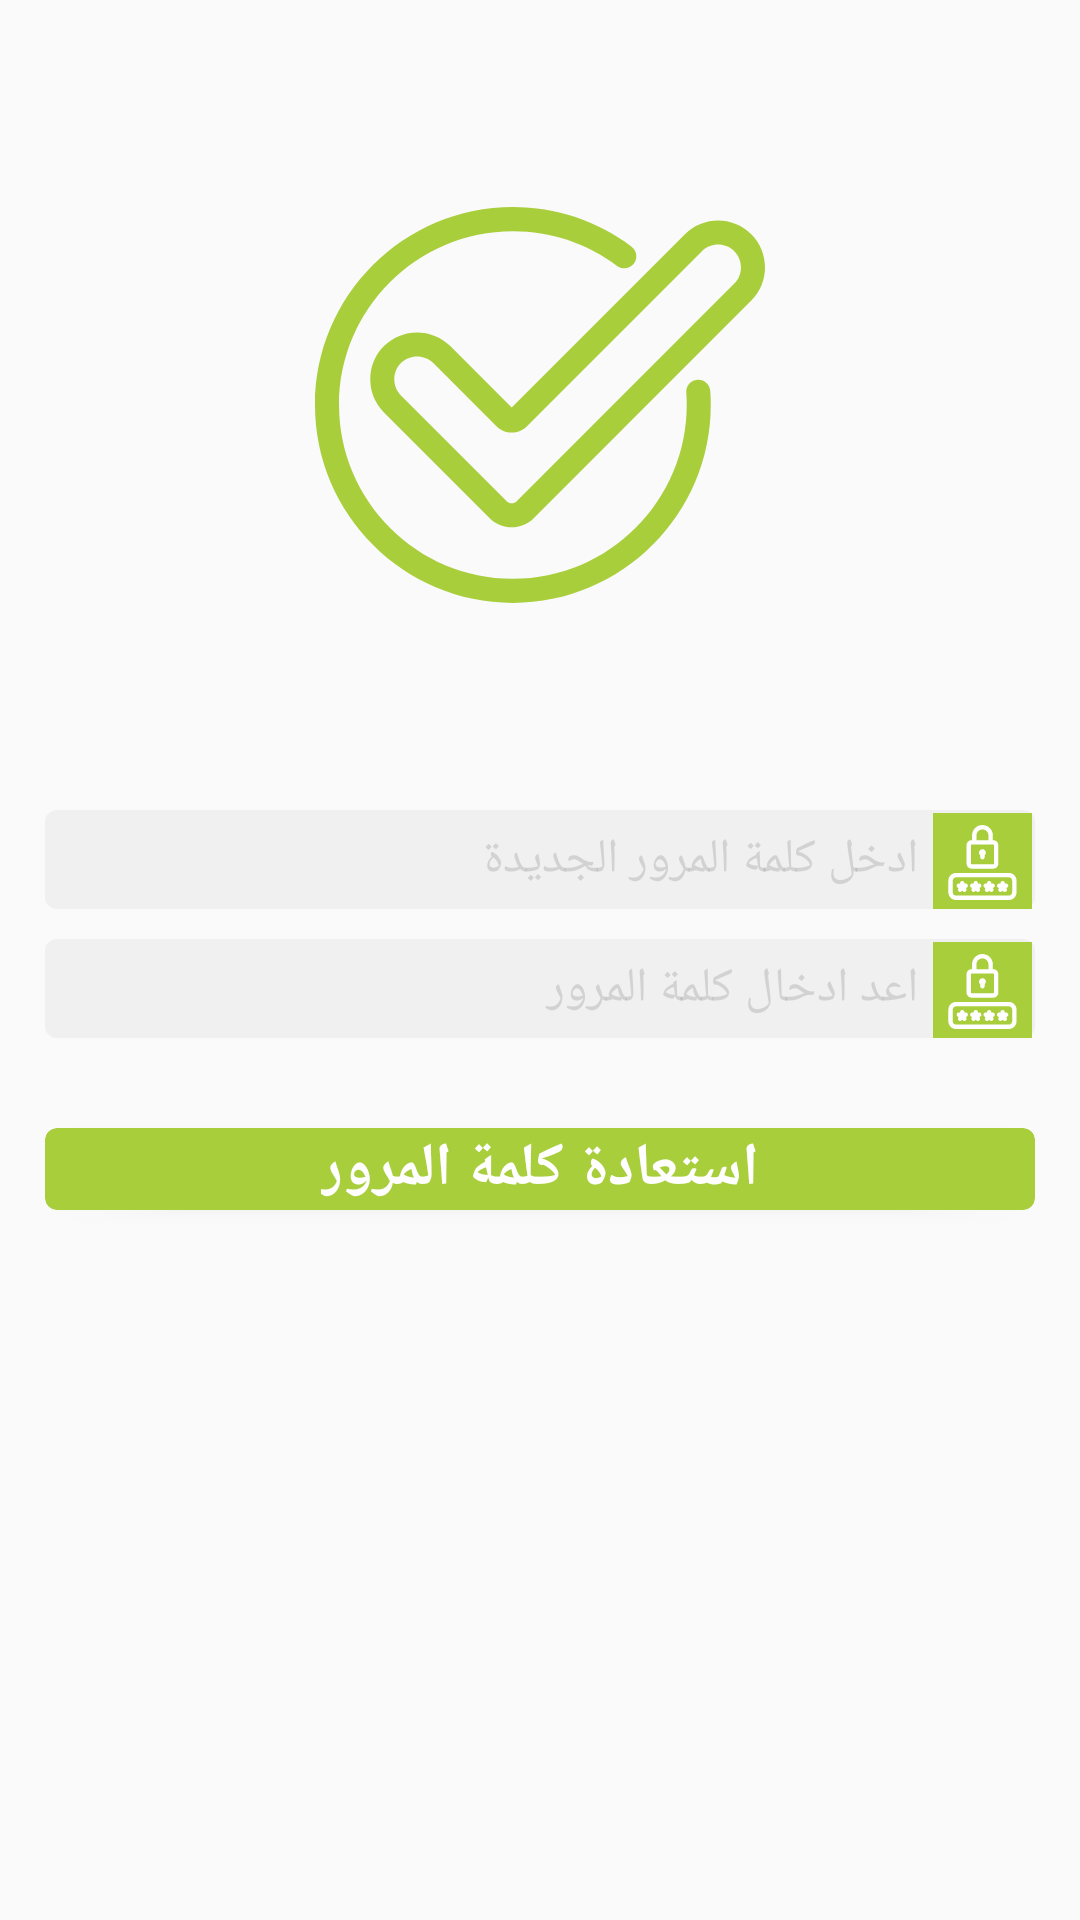

Where icons sit on this 1080w x 1920h app screen, as (x1, y1, x2, y2):
password: (933, 813, 1032, 909), (933, 942, 1032, 1038)
